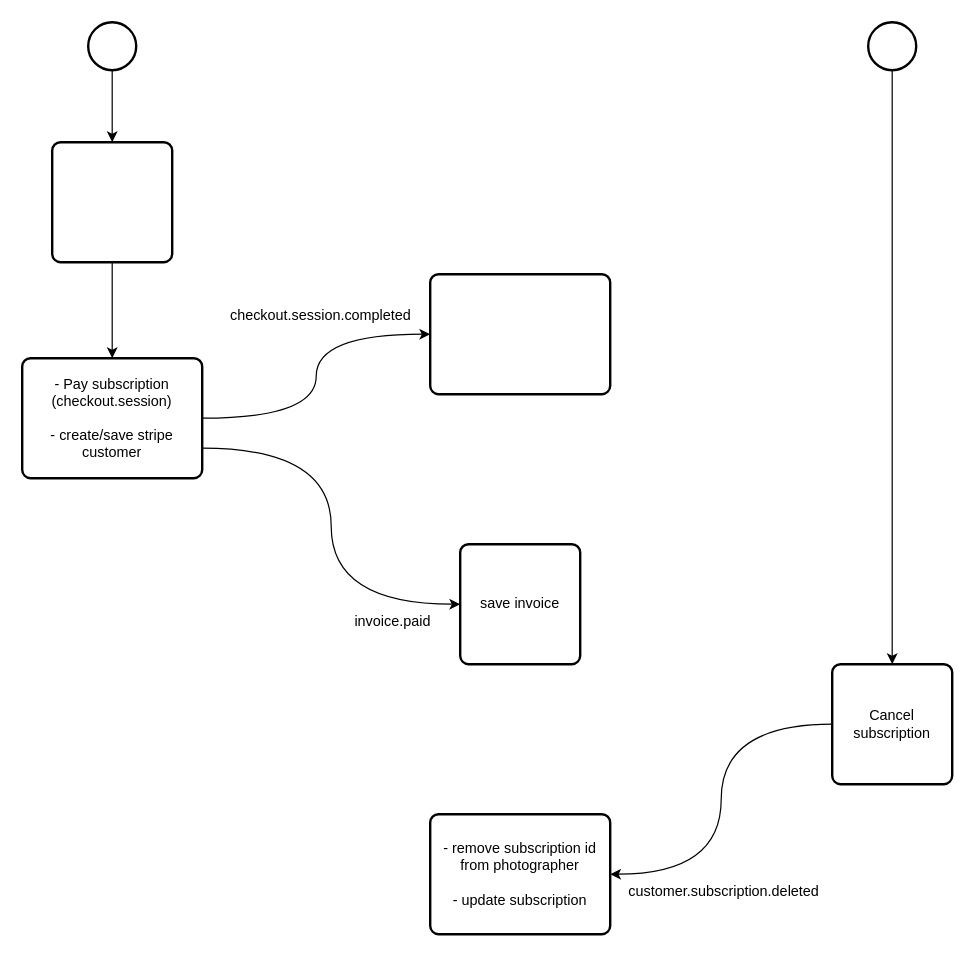
Some shapes in this 973 by 955 pixel diagram are drawn without their labels. The centre of each missing label's shape, as x and y in pixels:
- save subscription - set subscription id to photographer: point (519, 333)
Publish/Edit ad as Premium: point (111, 201)
